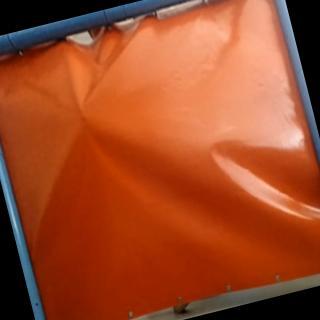Hit-hRxx: (76, 105, 95, 127)
